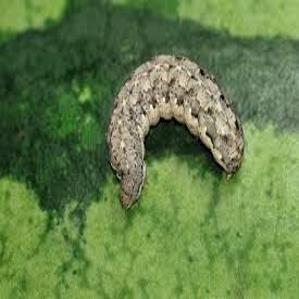Beet armyworm: (84, 51, 261, 221)
